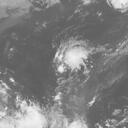cyclone: (52, 36, 92, 73)
